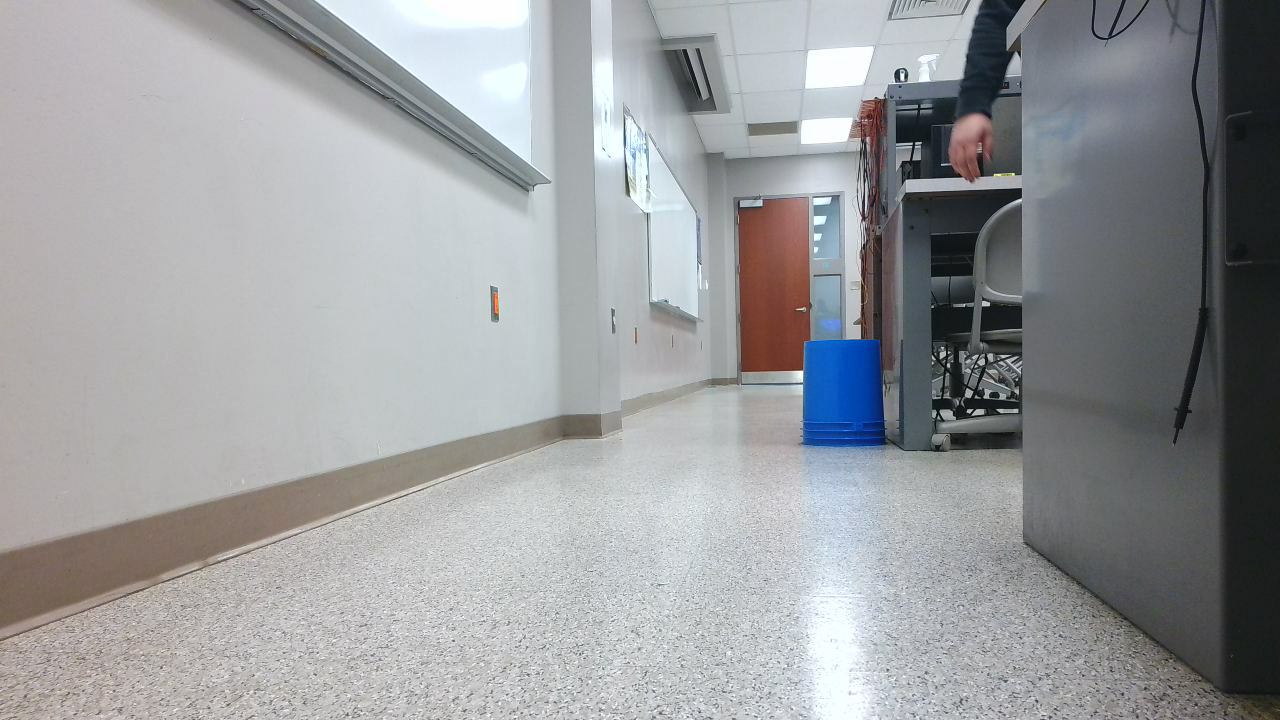blue_bucket: (801, 342, 899, 456)
